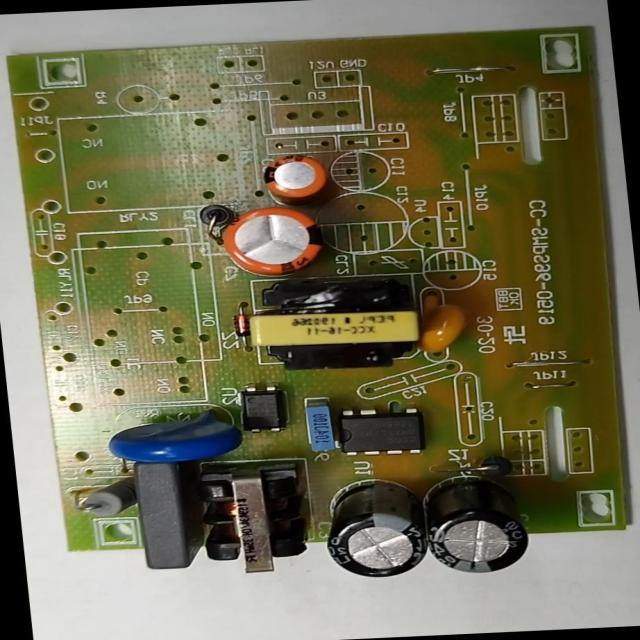Cap1: (216, 202, 334, 282)
Cap2: (253, 152, 339, 205)
Cap3: (316, 473, 432, 584)
Cap4: (412, 468, 536, 582)
MOSFET: (323, 398, 441, 461)
Mov: (100, 406, 256, 472)
Resistor: (72, 472, 142, 524)
Transformer: (232, 268, 441, 373), (183, 462, 320, 582)
